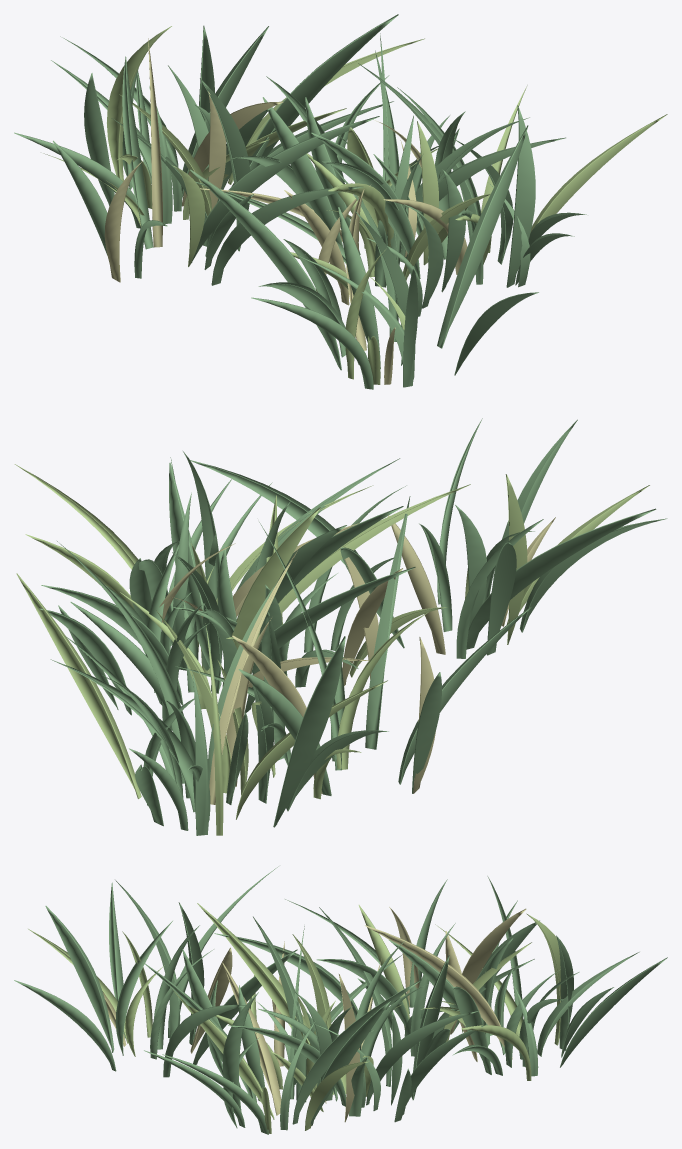
3 renders of one model, top to bottom at view 1: azimuth 30°, elevation 25°; view 2: azimuth 150°, elevation 25°; view 3: azimuth 270°, elevation 25°, orthographic. The views are drawn at different scales.
Visible parts, largest first — view 1: grass_short; view 2: grass_short; view 3: grass_short.
Part boxes in pixels (box(x1,y1,x2,y2)): grass_short: box(14, 14, 667, 389); grass_short: box(14, 418, 667, 835); grass_short: box(14, 866, 667, 1134).
Bounding box in the file's own units: 0.9255 × 0.3028 × 1.25.
